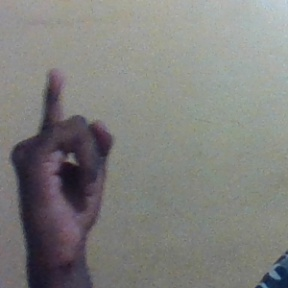I: (9, 66, 115, 252)
